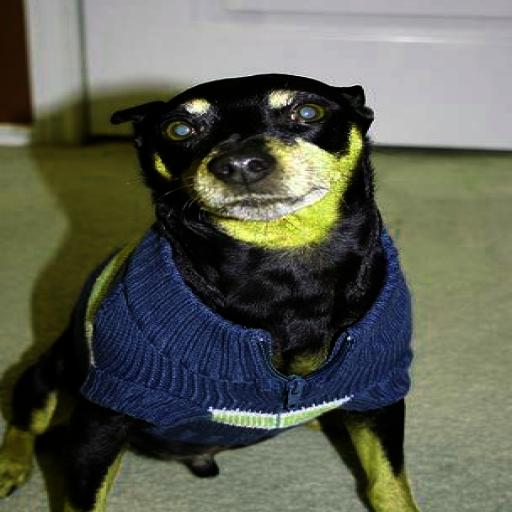dog_face: (130, 68, 370, 243)
